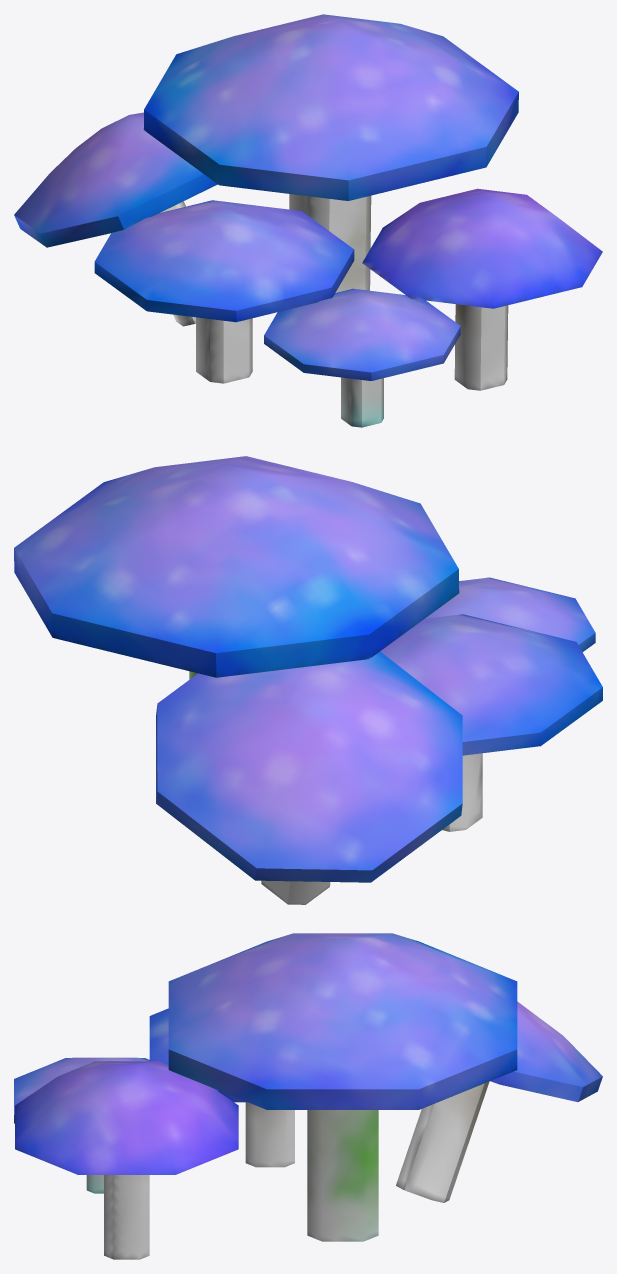
3 renders of one model, top to bottom at view 1: azimuth 30°, elevation 25°; view 2: azimuth 150°, elevation 25°; view 3: azimuth 270°, elevation 25°, orthographic. The views are drawn at different scales.
Bounding box in the file's own units: 0.9393 × 0.6726 × 1.2.
1 material, 1 textured.
